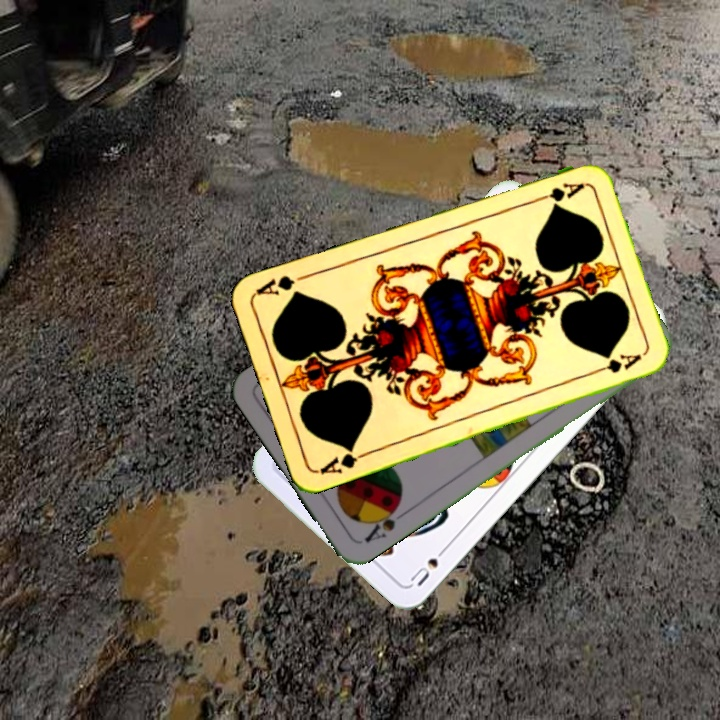GA: (316, 443, 372, 478), (529, 178, 587, 207)
SA: (360, 498, 411, 546)
SU: (406, 540, 452, 589)
